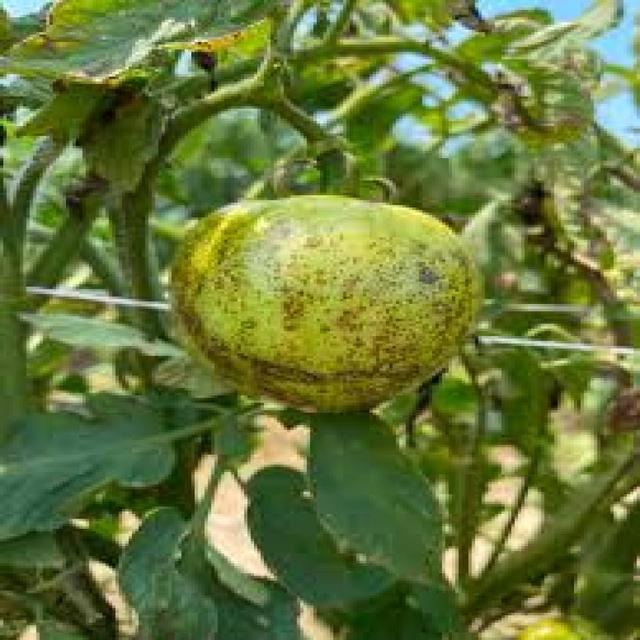Spotted wilt Virus Fruit: (116, 127, 327, 276)
